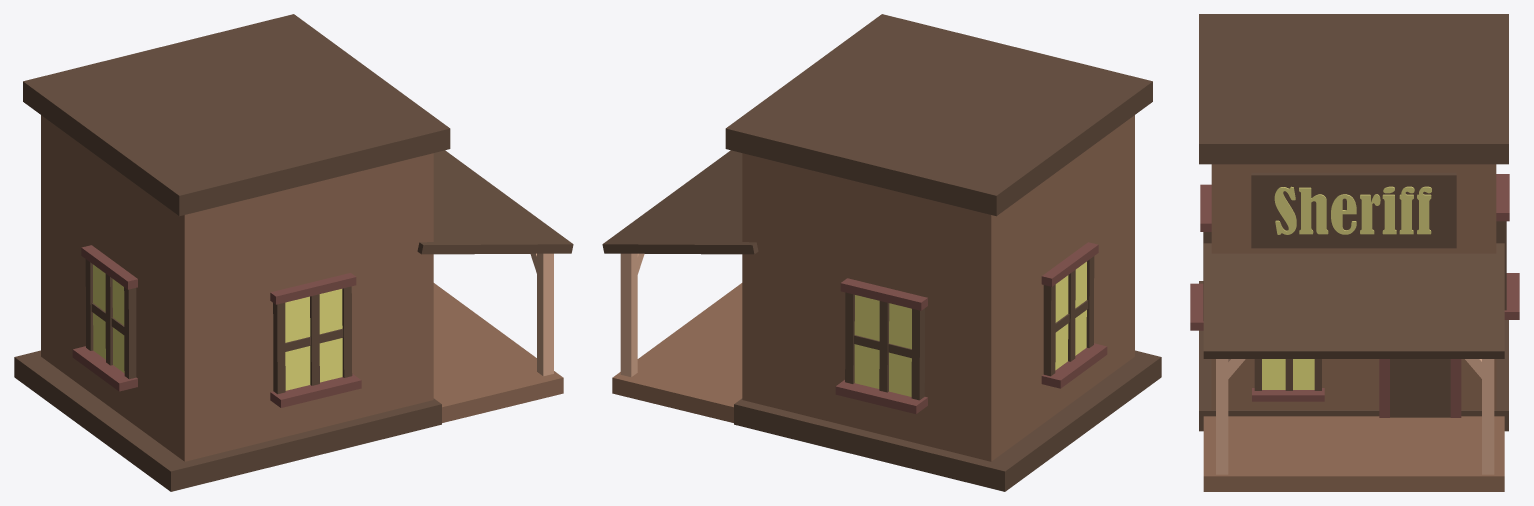
Rendered from SheriffOffice.fbx.
The picture shows the model from 3 angles, left to right: view 1: azimuth 30°, elevation 25°; view 2: azimuth 150°, elevation 25°; view 3: azimuth 270°, elevation 25°; orthographic projection.
Visible parts, largest first — view 1: Cube.001, Cube.009, Cube.011, Cube.010, Cube.015; view 2: Cube.001, Cube.009, Cube.011, Cube.010, Cube.015; view 3: Cube.009, Cube.001, Cube.010, Sheriff, Cube.015, Cube.011.
Boxes of the visible parts, box(x1,y1,x2,y2) form: Cube.001: box(41, 115, 563, 461); Cube.009: box(14, 14, 573, 491); Cube.011: box(93, 264, 342, 390); Cube.010: box(72, 245, 361, 407); Cube.015: box(530, 253, 553, 376); Cube.001: box(612, 115, 1134, 461); Cube.009: box(602, 14, 1161, 491); Cube.011: box(854, 261, 1086, 396); Cube.010: box(835, 242, 1107, 413); Cube.015: box(620, 253, 644, 377); Cube.009: box(1199, 14, 1508, 431); Cube.001: box(1203, 164, 1504, 491); Cube.010: box(1190, 174, 1519, 417); Sheriff: box(1274, 186, 1431, 234); Cube.015: box(1216, 359, 1494, 474); Cube.011: box(1262, 359, 1314, 389).
Bounding box in the file's own units: 178 × 124 × 126.
